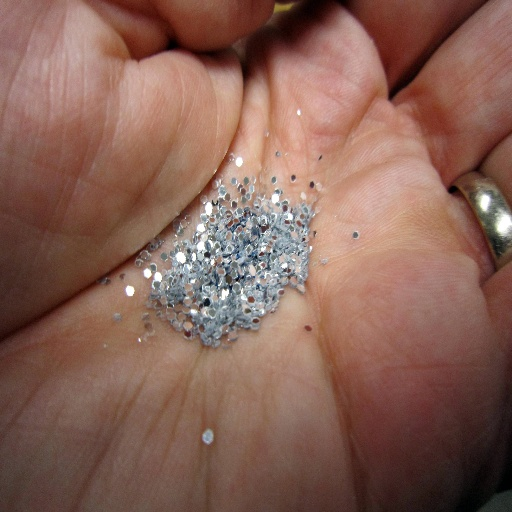hand: (16, 0, 512, 512)
